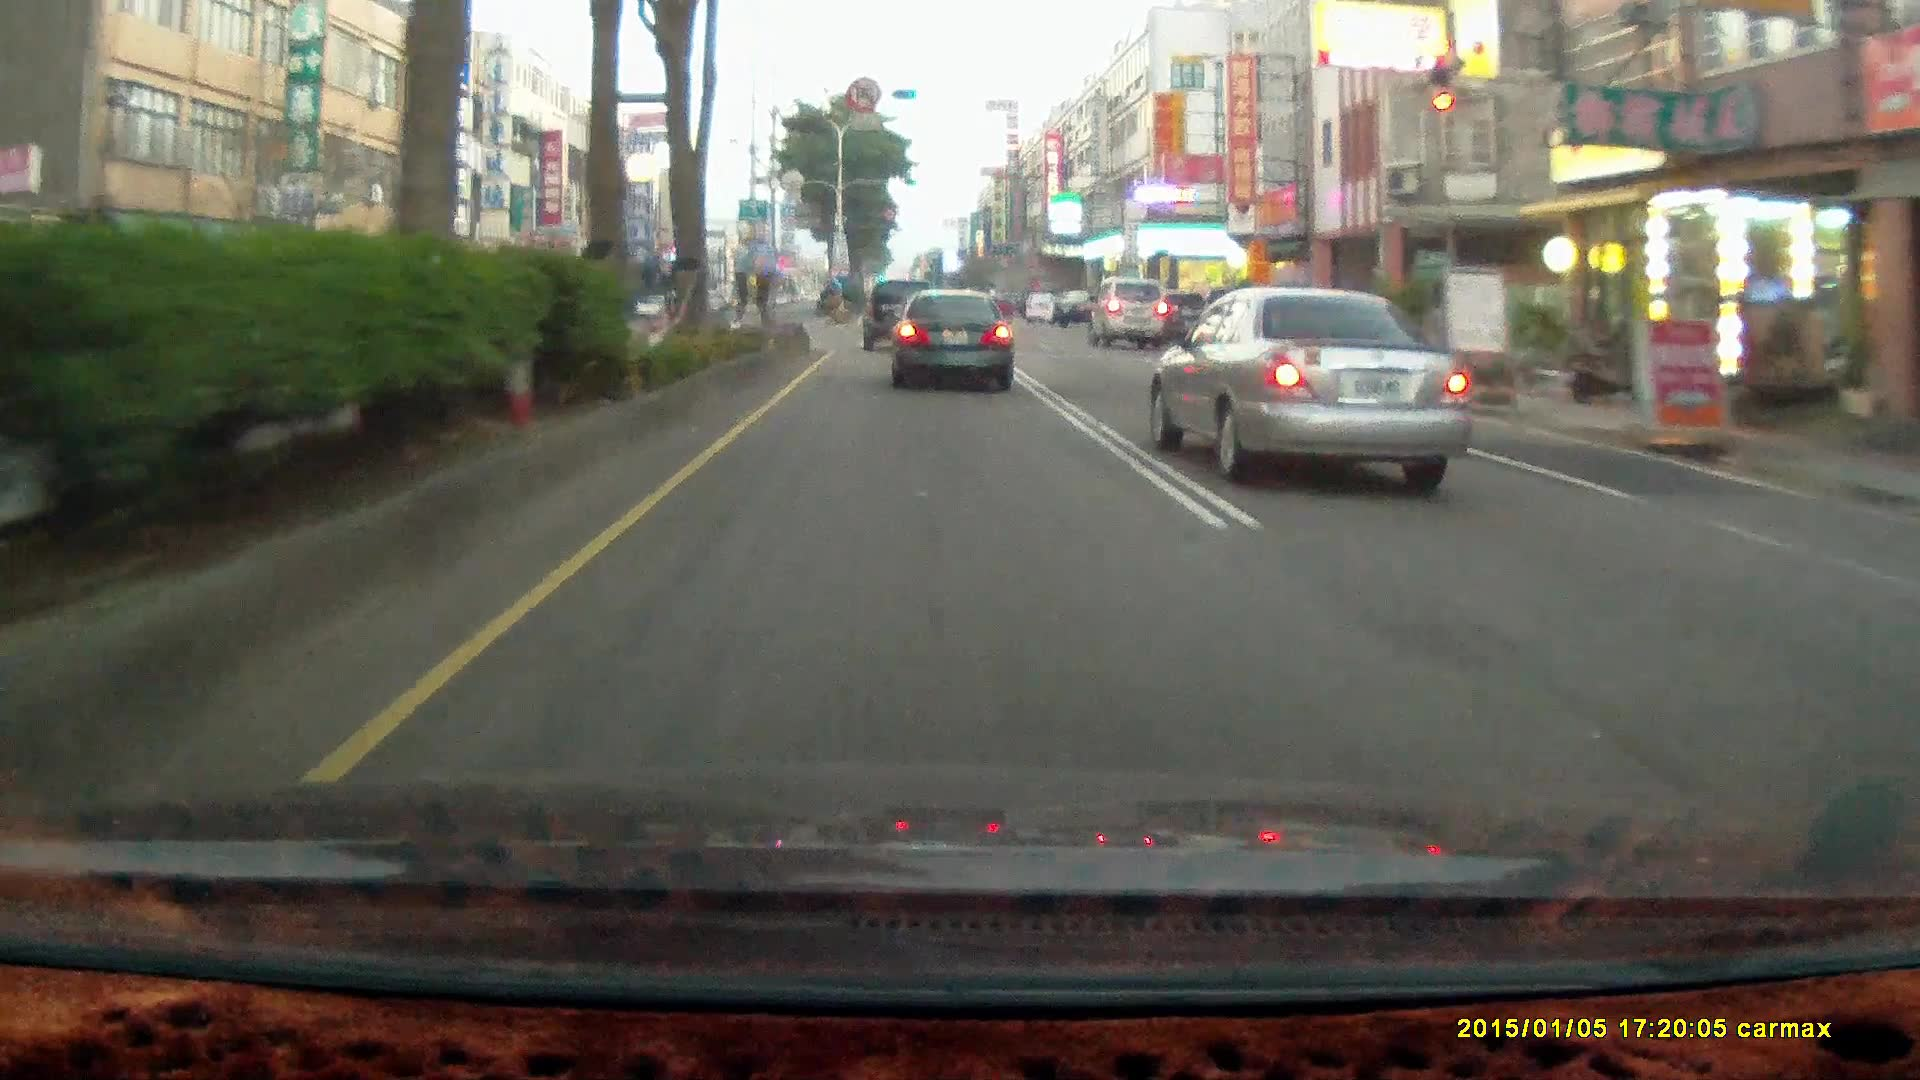vehicle: (1149, 286, 1472, 477), (889, 286, 1019, 396), (889, 285, 1011, 390), (861, 278, 940, 355), (1089, 277, 1168, 349), (1088, 276, 1168, 347), (861, 280, 938, 353), (1054, 284, 1112, 324), (1025, 287, 1058, 316)
